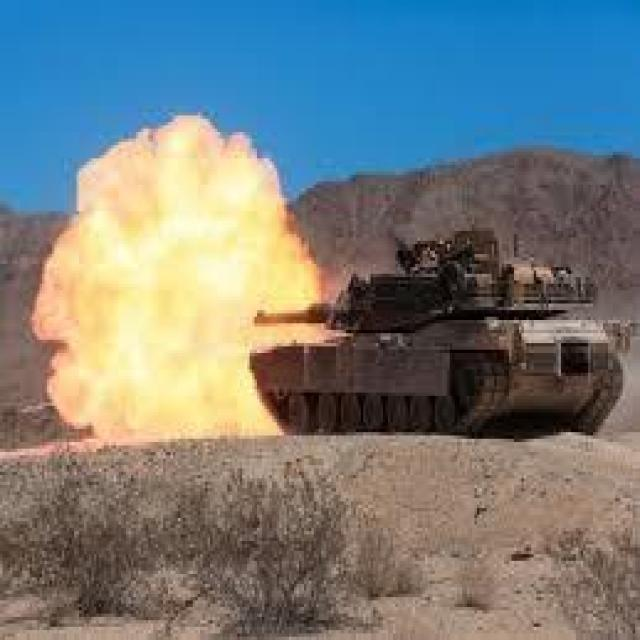Tanks: (224, 51, 577, 526)
